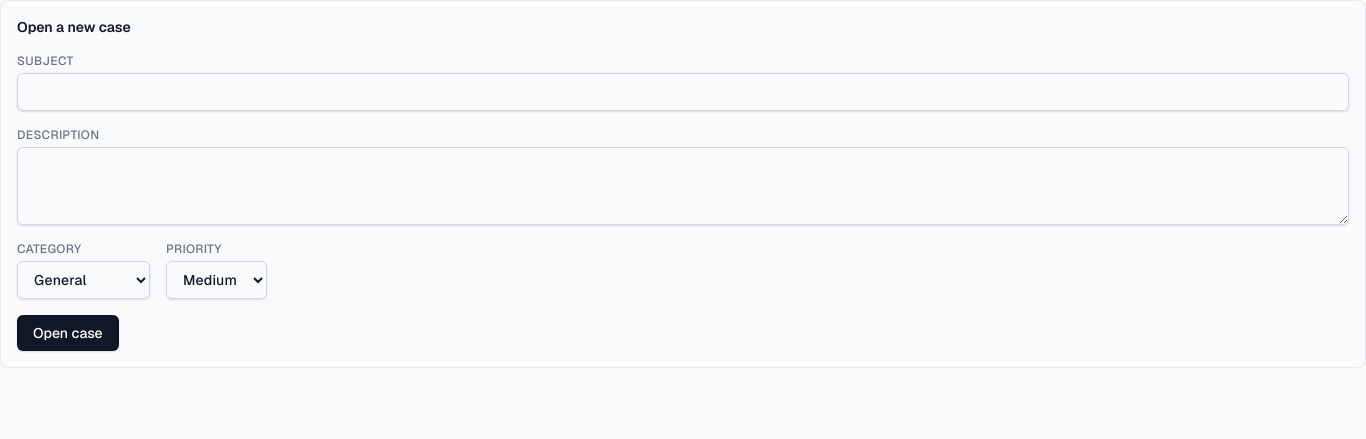
Test: NewCaseForm › shows an error when opening the case fails
The image size is (1366, 439).
Type "Help" into the field labelled "Subject" at [683, 92], box [17,73,1349,111]
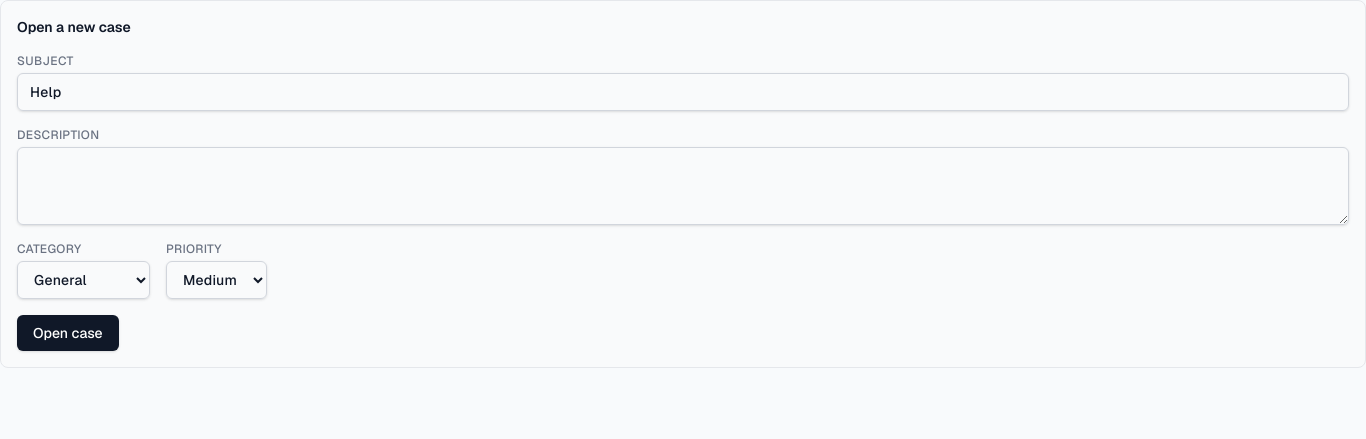
Click the button "Open case" at [68, 333], box [17,315,119,351]
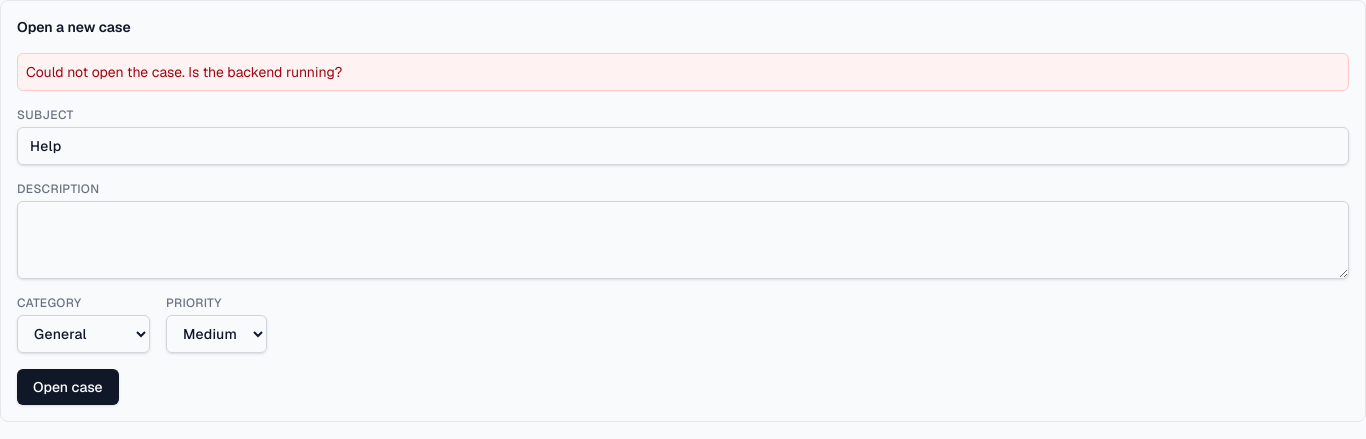
Now the message "Could not open the case. Is the backend running?" is shown, box [17,53,1349,91]
